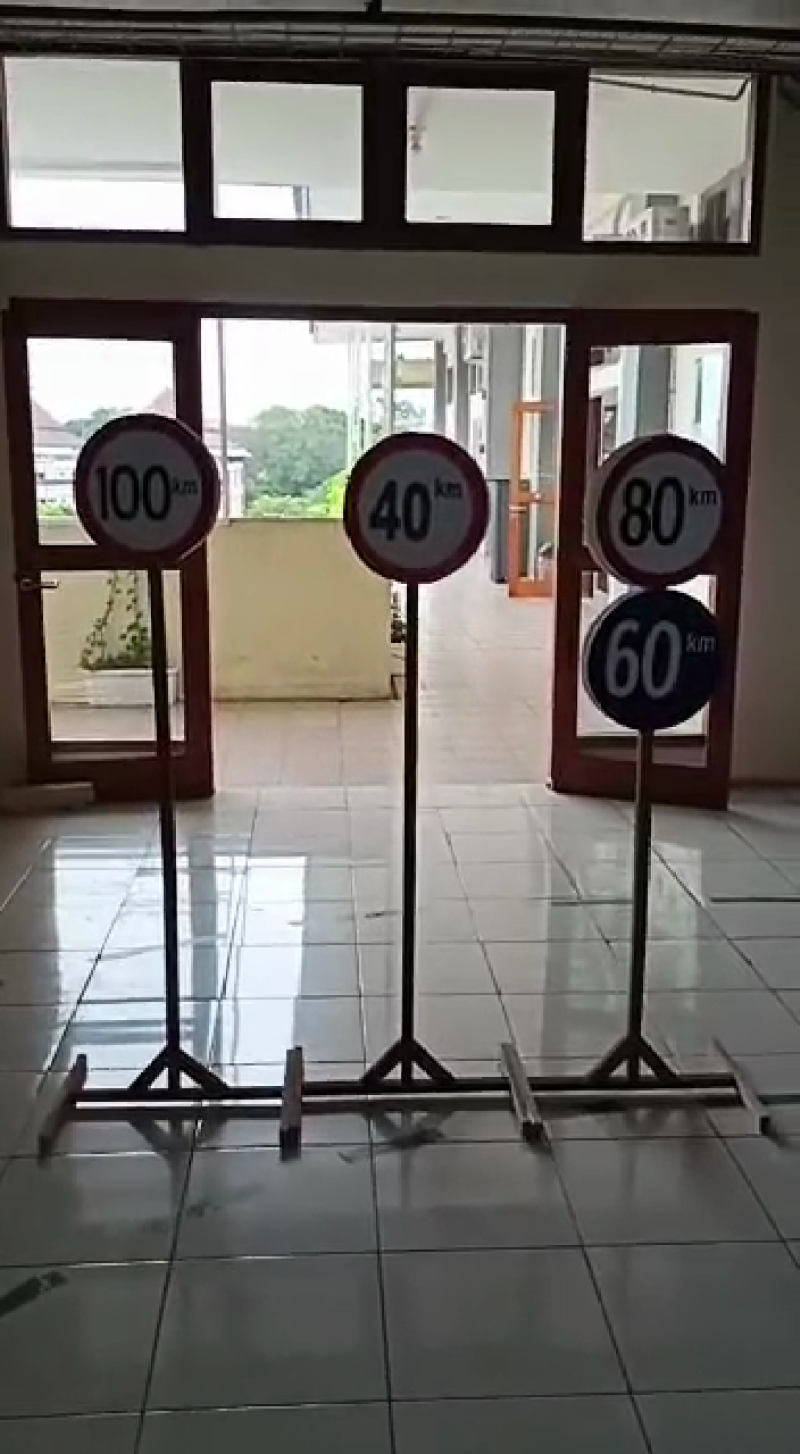batas maksimal 100kmperjam: (63, 409, 226, 566)
batas maksimal 40kmperjam: (335, 422, 494, 590)
batas maksimal 80kmperjam minimal 60kmperjam: (576, 437, 748, 740)
